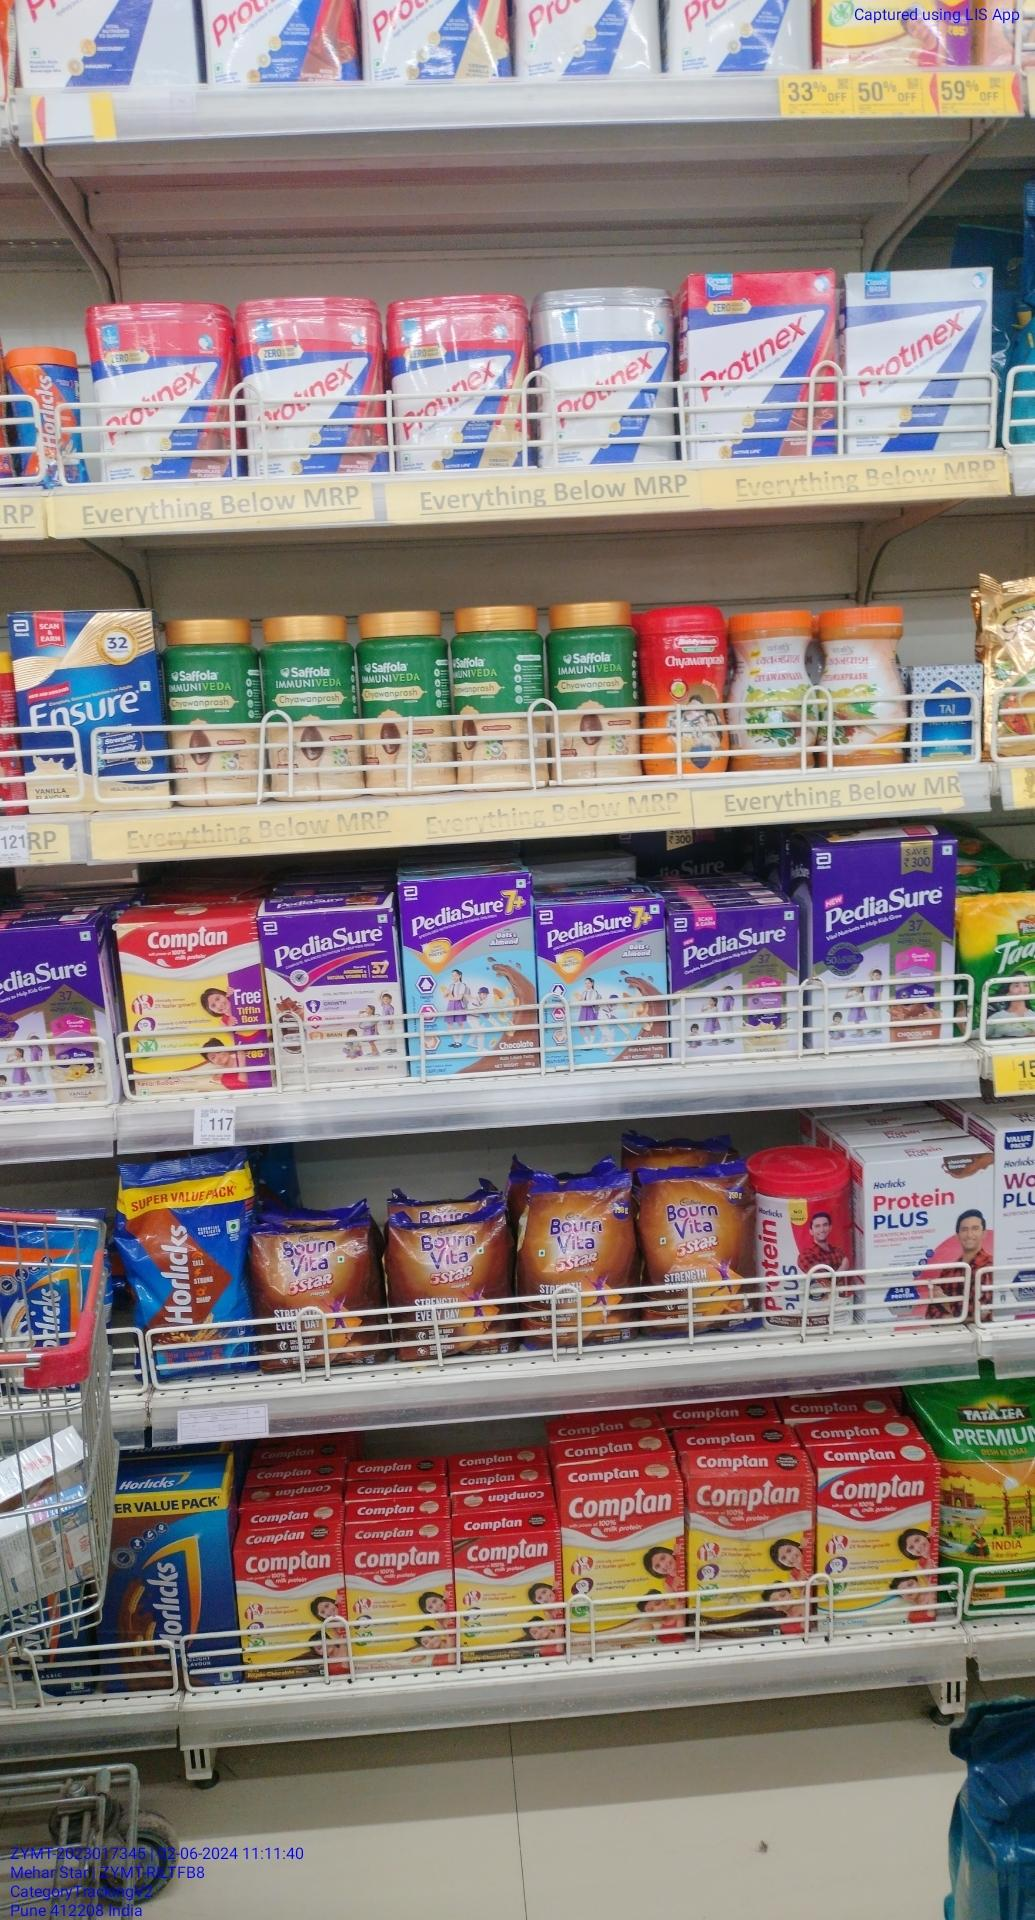BOURN_VITA_FIVE_STAR_MAGIC_500_G_POUCH: (389, 1207, 506, 1357), (255, 1223, 373, 1367)
BOURN_VITA_FIVE_STAR_MAGIC_750_G_POUCH: (520, 1172, 635, 1344), (642, 1166, 751, 1335)
ENSURE_VANILLA_400_G_PACK: (11, 605, 173, 812)
PEDIASURE_7_PLUS_CHOCOLATE_400_G_PACK: (539, 894, 669, 1065)
PEDIASURE_CHOCOLATE_500_G_PACK: (813, 841, 951, 1046)
PROTINEX_CHOCOLATE_400_G_JAR: (238, 296, 384, 476), (90, 303, 227, 473)
PROTINEX_ORIGINAL_400_G_JAR: (535, 288, 674, 460)
PROTINEX_VANILLA_400_G_JAR: (395, 292, 528, 471)
